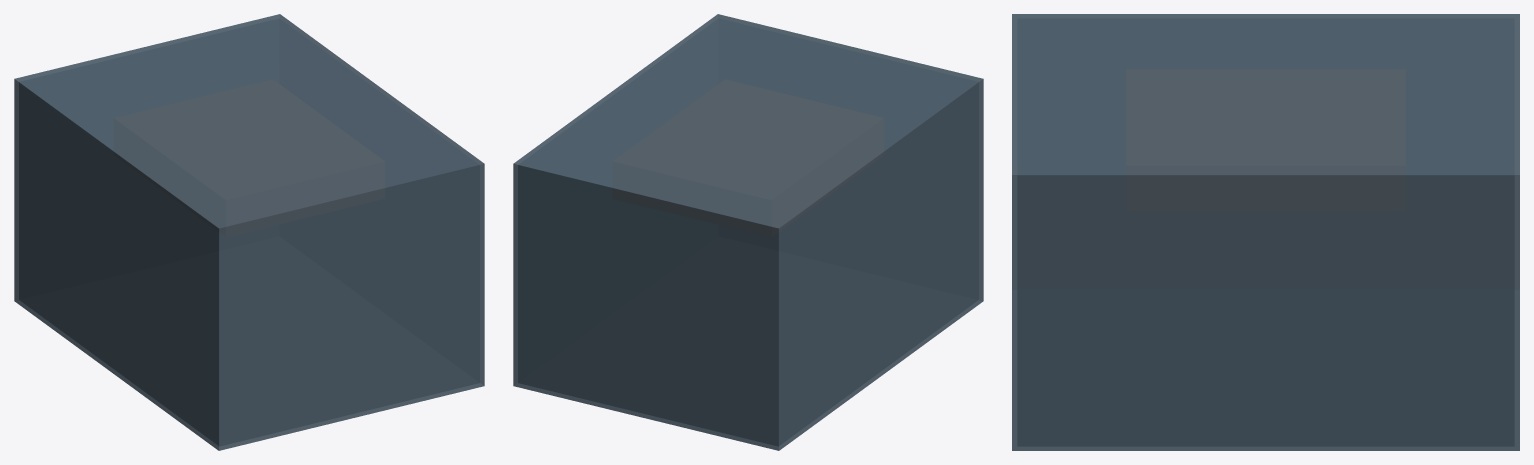
Rendered from hollow_box.fbx.
The picture shows the model from 3 angles, left to right: view 1: azimuth 30°, elevation 25°; view 2: azimuth 150°, elevation 25°; view 3: azimuth 270°, elevation 25°; orthographic projection. The views are drawn at different scales.
Visible parts, largest first — view 1: Hollow_Box; view 2: Hollow_Box; view 3: Hollow_Box.
Part boxes in pixels (left/top/right/bottom): Hollow_Box: left=14, top=14, right=484, bottom=450; Hollow_Box: left=513, top=14, right=983, bottom=450; Hollow_Box: left=1012, top=14, right=1519, bottom=450.
Size of the model in its own units: 3 by 2.4 by 4.
